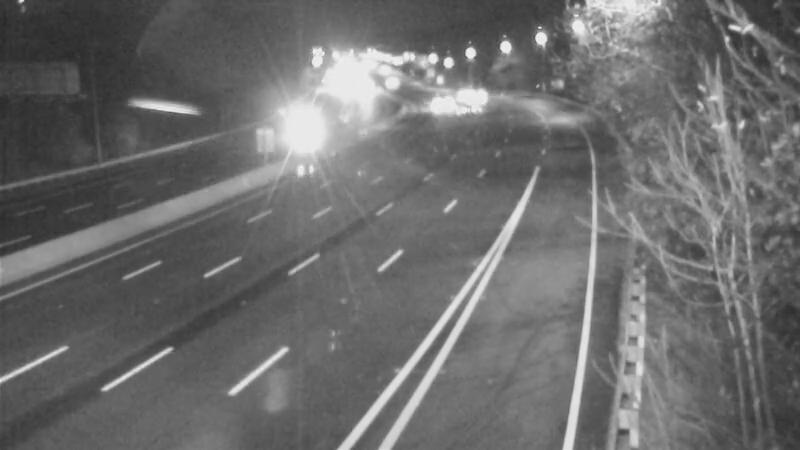vehicle: (366, 58, 416, 108), (450, 66, 500, 116), (410, 79, 460, 129), (442, 82, 492, 132), (274, 104, 324, 154)
